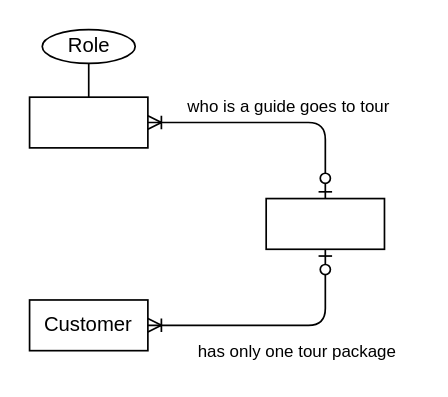
The diagram is 448 pixels wide and 397 high, and some of its shapes have lost their labels. Each missing label, with the box of its shape:
Staff: (28, 95, 148, 148)
Tour: (264, 197, 384, 249)
